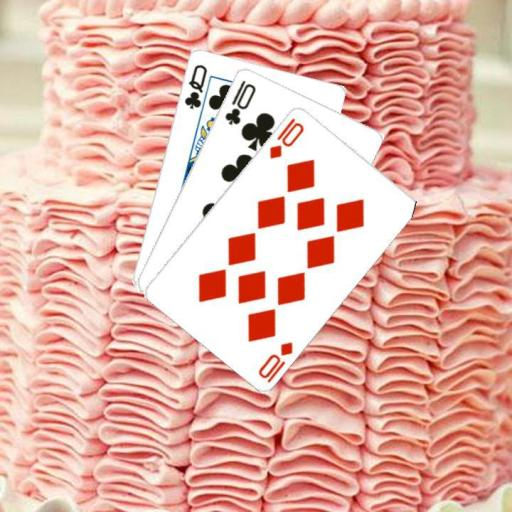10C: (221, 76, 258, 127)
10D: (266, 114, 306, 160), (255, 338, 295, 384)
QC: (181, 61, 208, 111)
